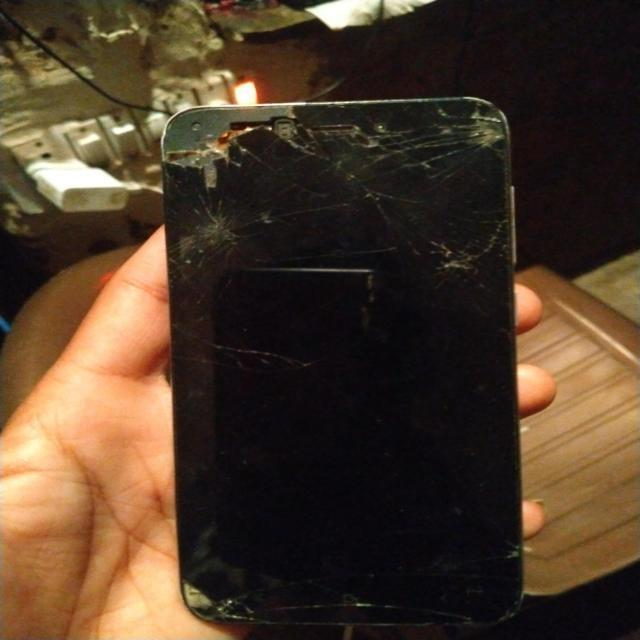cellphone: (83, 70, 589, 640)
